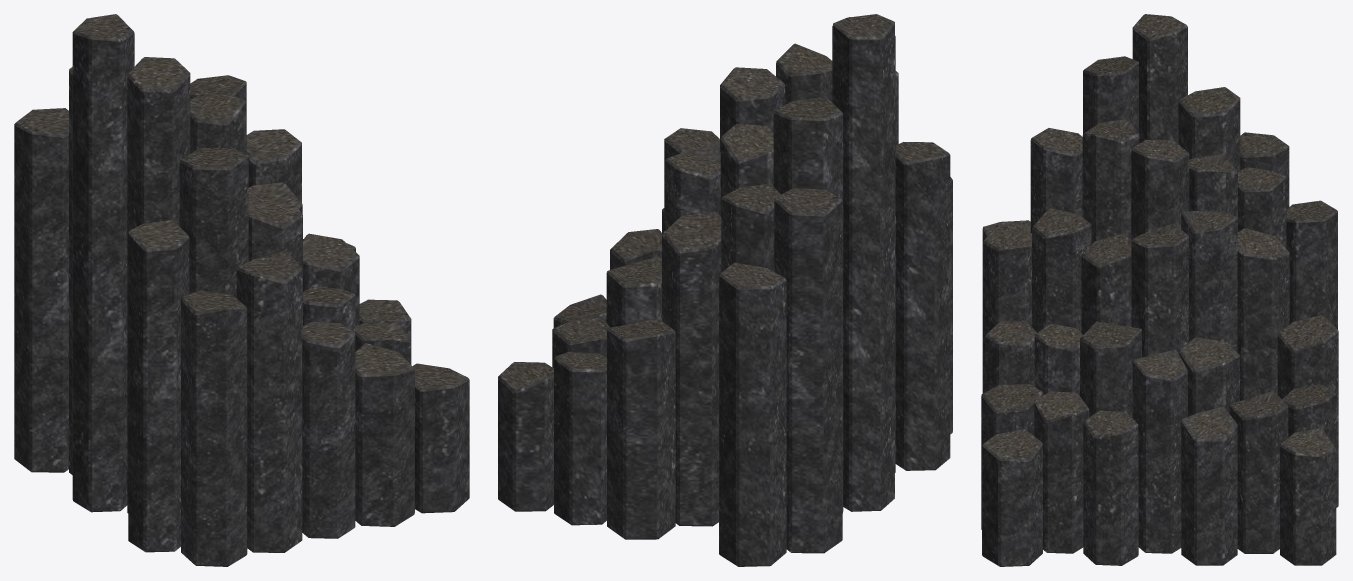
The model's file is basalt_columns.glb.
The picture shows the model from 3 angles, left to right: view 1: azimuth 30°, elevation 25°; view 2: azimuth 150°, elevation 25°; view 3: azimuth 270°, elevation 25°; orthographic projection. The views are drawn at different scales.
Parts seen in each view (by area): view 1: basalt_columns; view 2: basalt_columns; view 3: basalt_columns.
Boxes of the visible parts, left/top/right/bottom form: basalt_columns: left=14, top=14, right=469, bottom=566; basalt_columns: left=498, top=14, right=952, bottom=566; basalt_columns: left=981, top=14, right=1338, bottom=566.
Bounding box in the file's own units: 4.82 × 7.22 × 5.51.
Materials: 1 (1 with a texture image).
